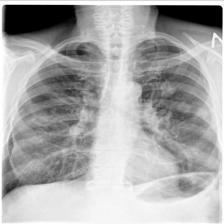tuberculosis: (1, 34, 224, 210)
